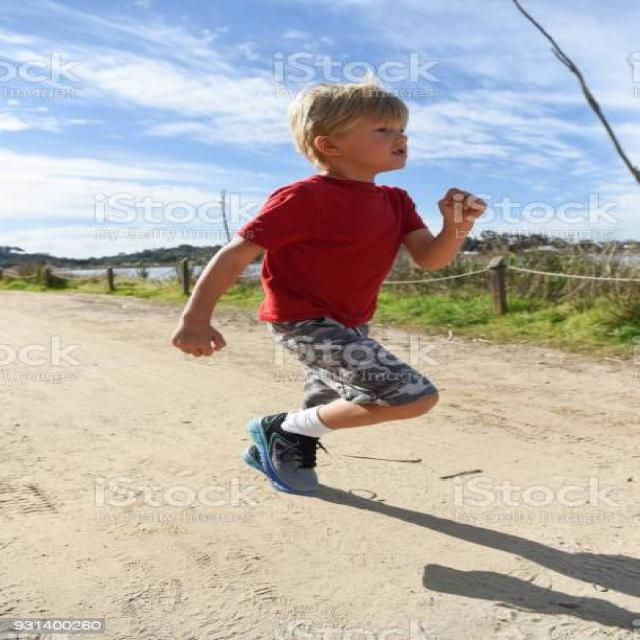Person: (170, 84, 485, 492)
